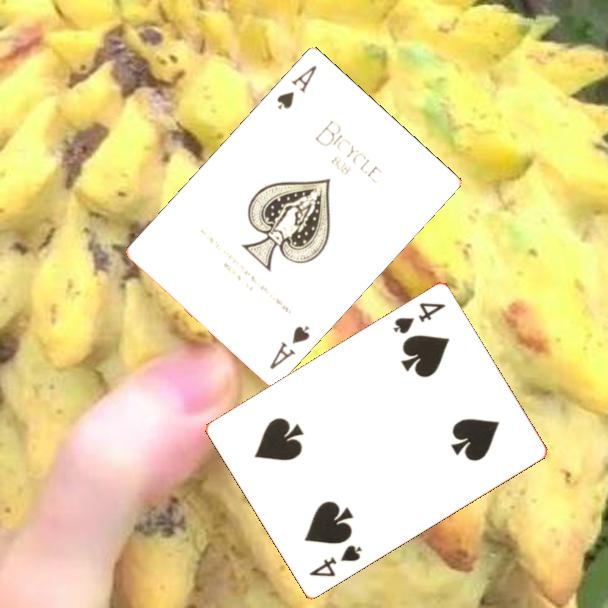s01: (273, 61, 320, 112), (266, 321, 313, 372)
s04: (389, 298, 448, 337), (306, 541, 365, 579)
